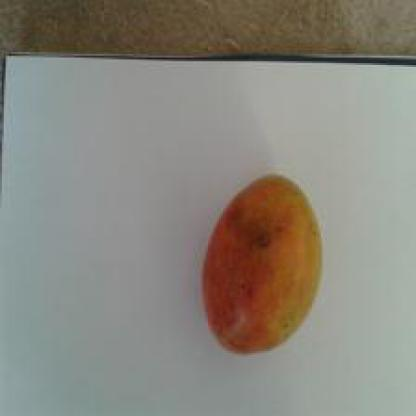mango: (196, 171, 324, 356)
